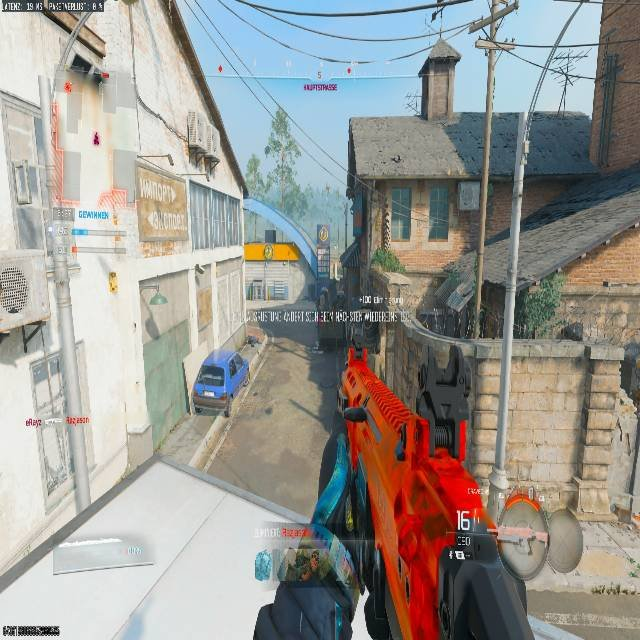head: (238, 314, 268, 350)
player: (190, 313, 329, 472), (251, 541, 356, 640)
